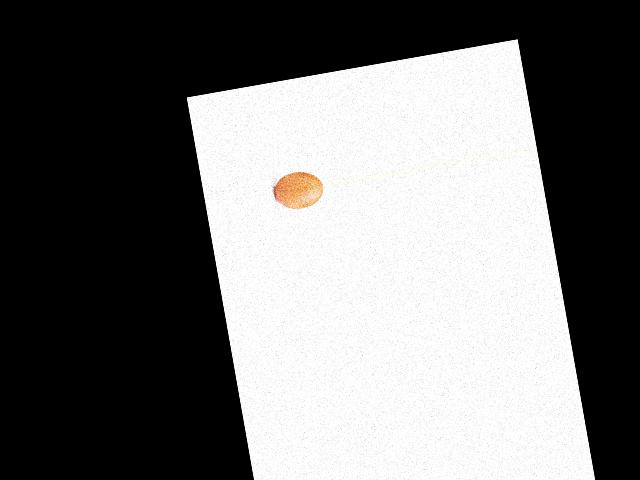egg: (271, 168, 325, 212)
